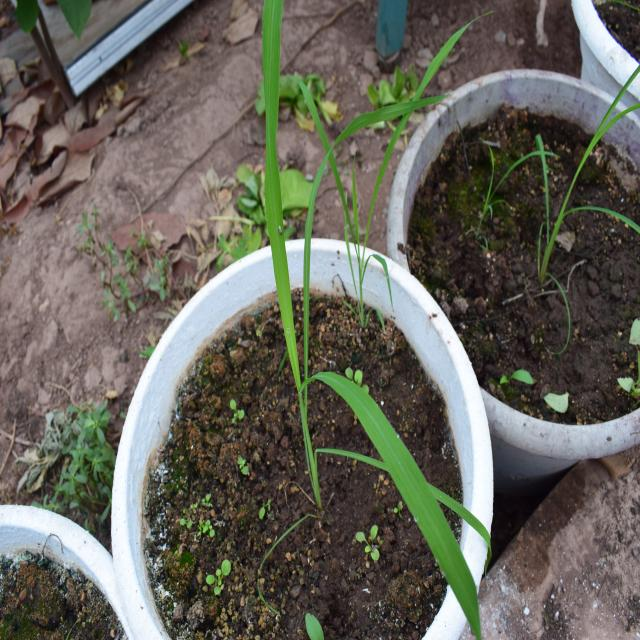barnyard_grass: (248, 0, 488, 574)
